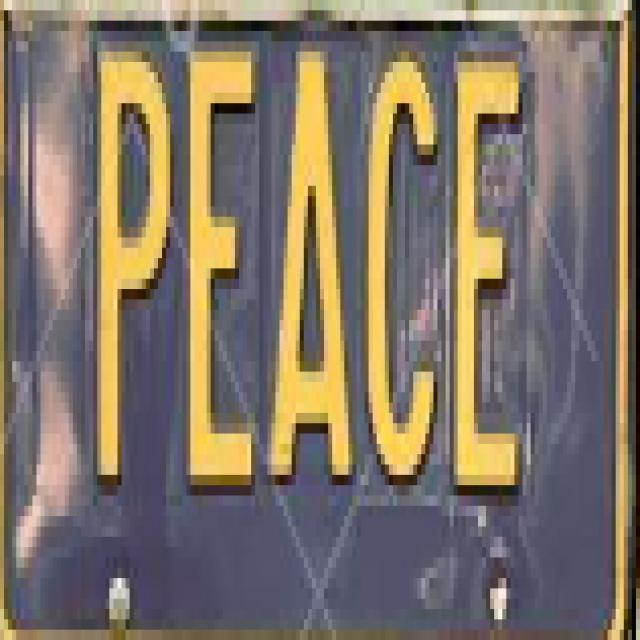A: (266, 39, 358, 510)
C: (363, 36, 441, 493)
E: (449, 45, 531, 507), (182, 36, 262, 500)
P: (90, 29, 174, 494)
